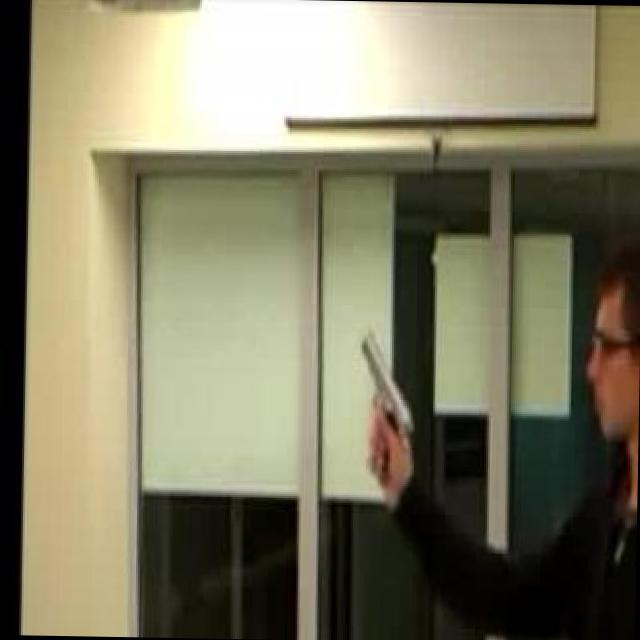Guns: (344, 312, 431, 482)
